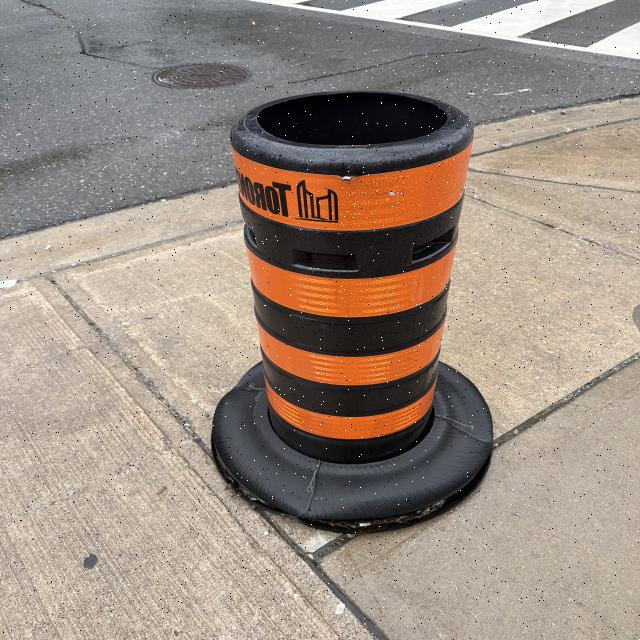Teraffic Barrel: (212, 92, 492, 530)
